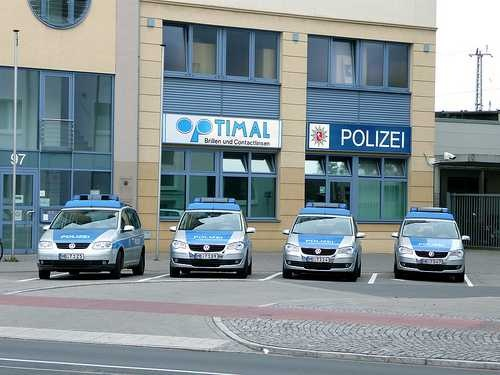Police Car: (35, 179, 134, 278), (169, 196, 265, 284), (282, 193, 367, 279), (395, 202, 471, 278)
